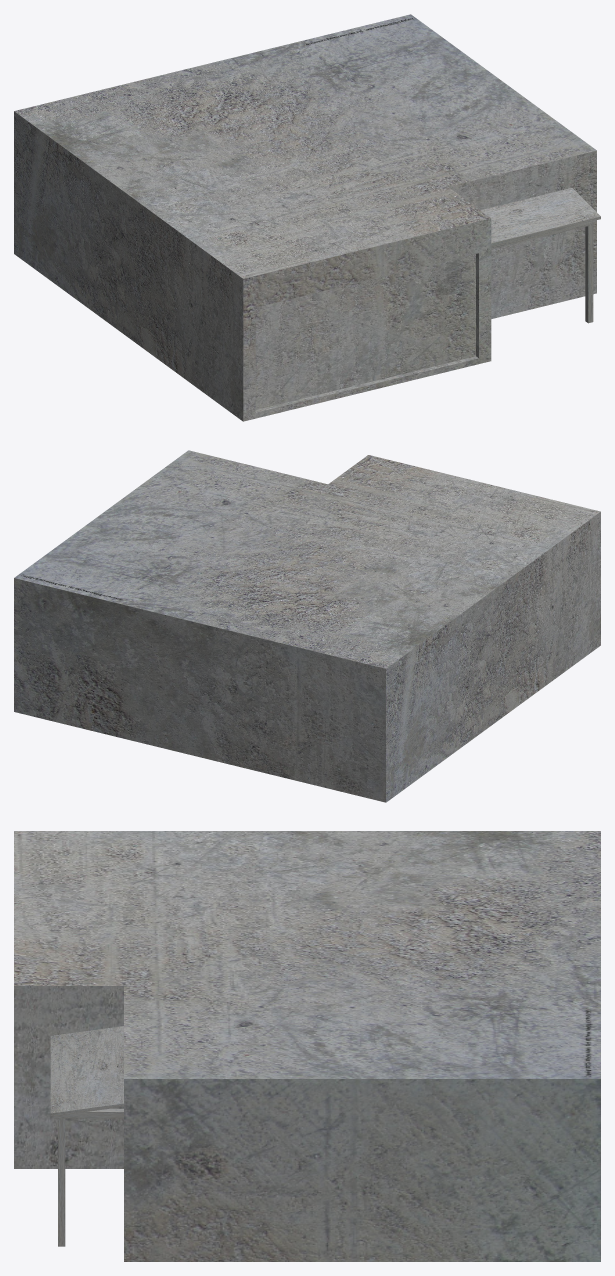
Rendered from building3.fbx.
The picture shows the model from 3 angles, top to bottom: view 1: azimuth 30°, elevation 25°; view 2: azimuth 150°, elevation 25°; view 3: azimuth 270°, elevation 25°; orthographic projection. The views are drawn at different scales.
Visible parts, largest first — view 1: Cube.001; view 2: Cube.001; view 3: Cube.001.
Boxes of the visible parts, left/top/right/bottom form: Cube.001: left=14, top=14, right=600, bottom=421; Cube.001: left=14, top=450, right=600, bottom=802; Cube.001: left=14, top=831, right=600, bottom=1261.
Size of the model in its own units: 1600 by 560 by 1600.
